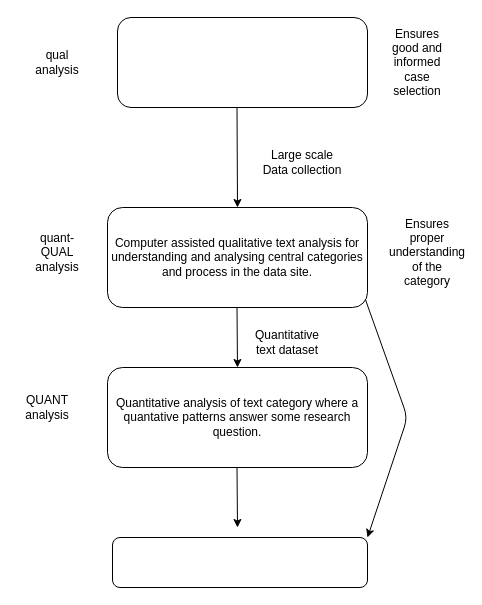
Some shapes in this 482 by 605 pixel diagram are drawn without their labels. Here are the shapes that lost their labels. From the top down, the centre of each, then its label:
At pixel 242 62: "Netnography scouting, evaluating and selection of data site".
At pixel 240 562: "Joint analysis".
